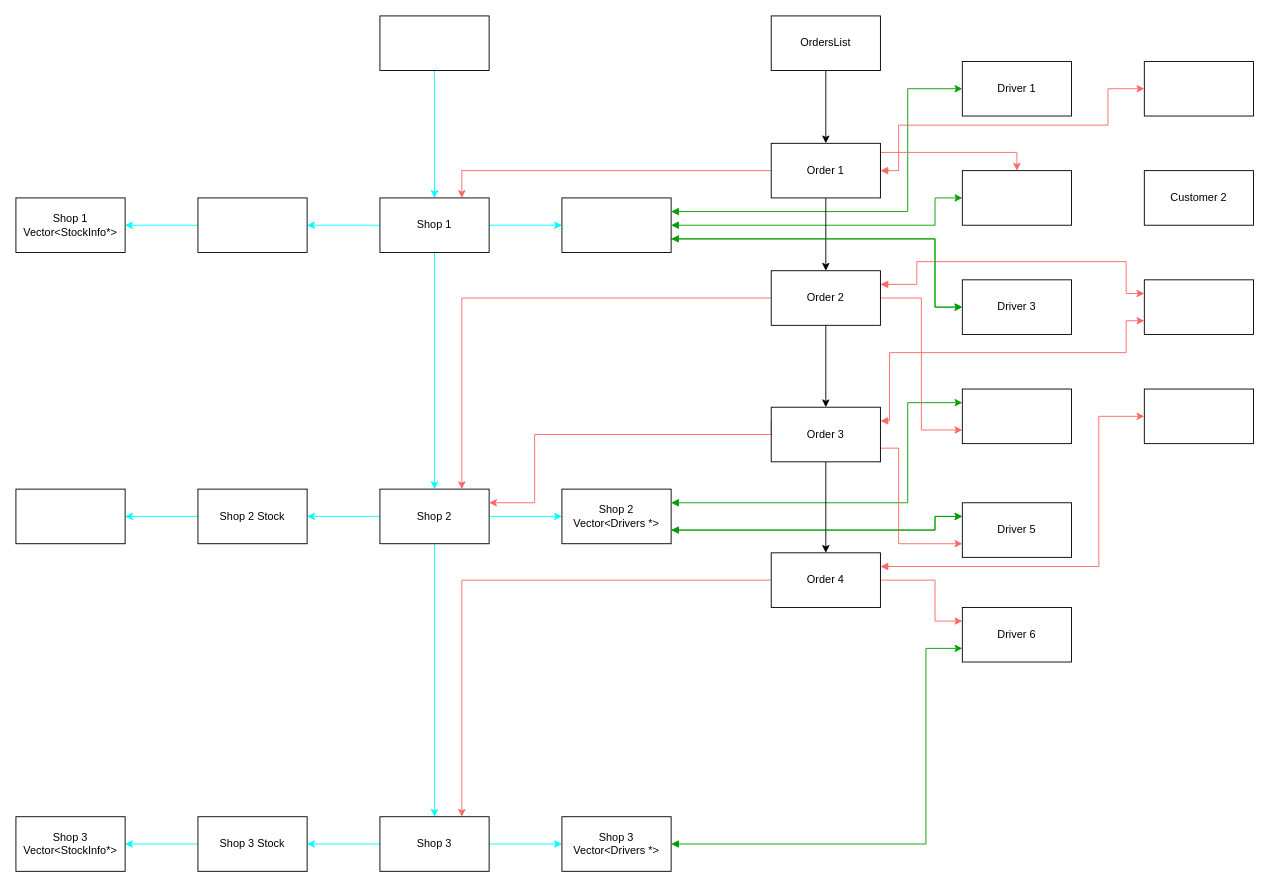
This 1269x887 diagram has some shape labels left out. Each missing label, with the box of its shape:
Customer 1: (1143, 61, 1254, 116)
Customer 3: (1143, 279, 1254, 334)
Customer 4: (1143, 388, 1254, 444)
Driver 2: (961, 170, 1072, 225)
Driver 4: (961, 388, 1072, 444)
Shop 1 Stock: (197, 197, 307, 253)
Shop 1 Vector<Drivers *>: (561, 197, 671, 253)
Shop 2 Vector<StockInfo*>: (15, 488, 125, 544)
ShopsList: (379, 15, 489, 71)
